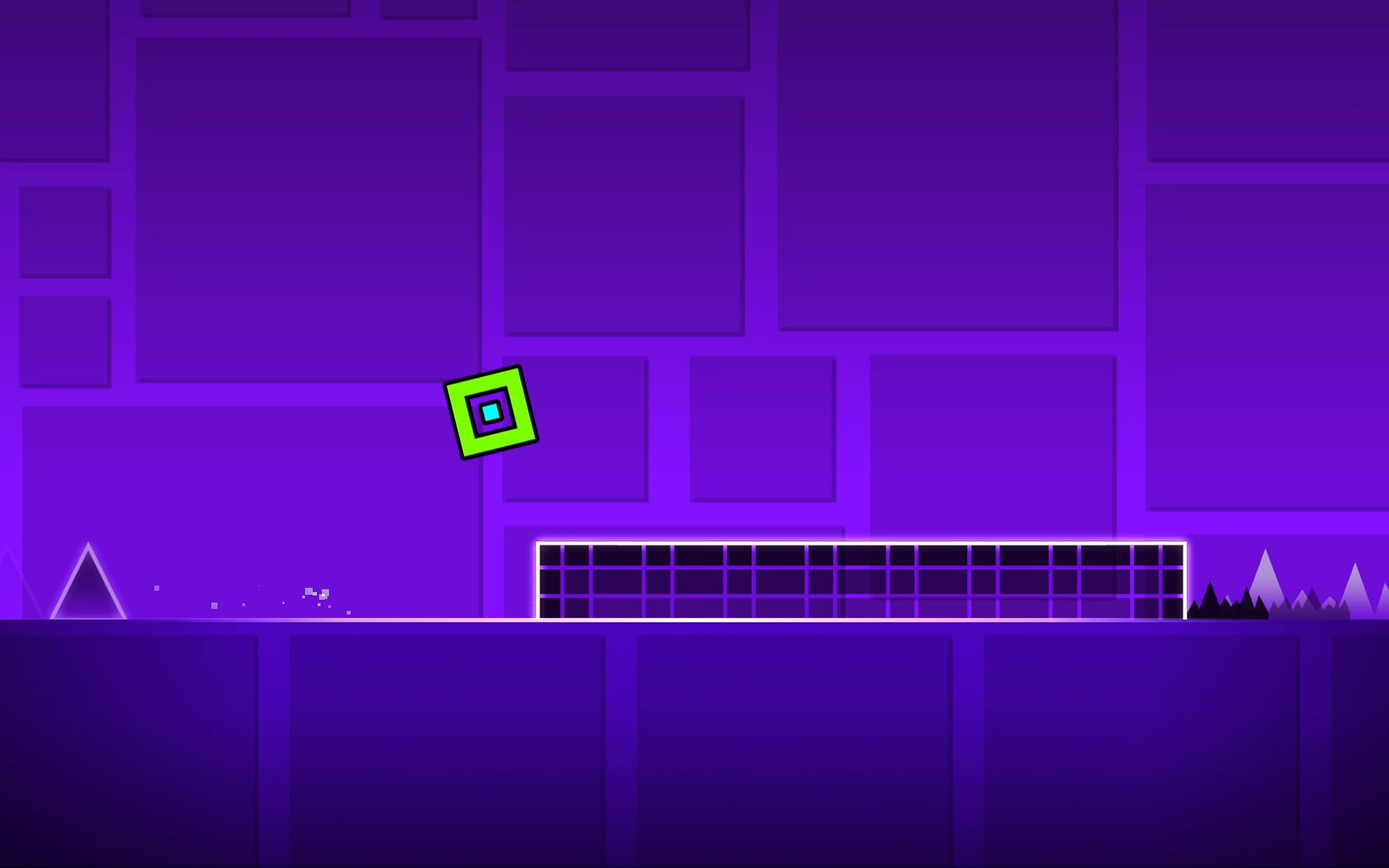Block2: (533, 540, 1179, 614)
Player: (447, 364, 538, 458)
Spike3: (1189, 585, 1389, 620)
